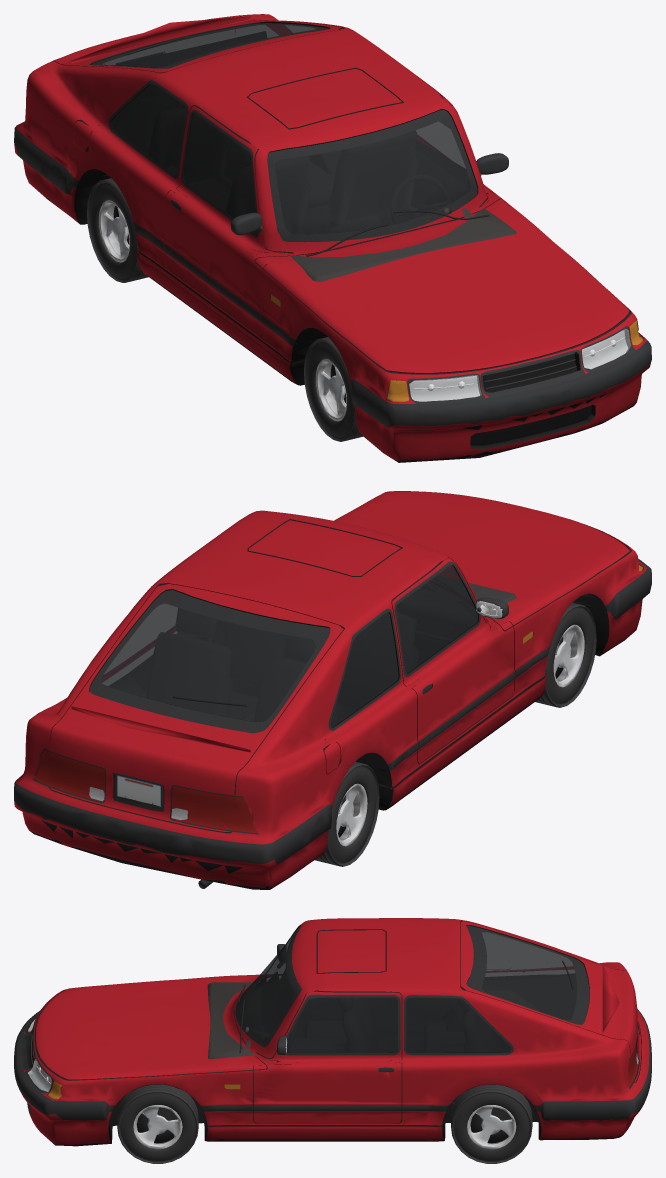
Rendered from car_saab900.glb.
3 views of the same model, one above another, from view 1: azimuth 30°, elevation 25°; view 2: azimuth 150°, elevation 25°; view 3: azimuth 270°, elevation 25° (orthographic). The views are drawn at different scales.
Visible parts, largest first — view 1: body, wheel_RR, wheel_FR; view 2: body, wheel_RR, wheel_FR; view 3: body, wheel_FL, wheel_RL.
Boxes of the visible parts, x1=… form: body: x1=14, y1=14, x2=651, y2=462; wheel_RR: x1=87, y1=178, x2=148, y2=282; wheel_FR: x1=304, y1=337, x2=362, y2=441; body: x1=14, y1=491, x2=651, y2=889; wheel_RR: x1=315, y1=761, x2=379, y2=866; wheel_FR: x1=535, y1=602, x2=596, y2=707; body: x1=14, y1=918, x2=651, y2=1146; wheel_FL: x1=117, y1=1084, x2=198, y2=1163; wheel_RL: x1=451, y1=1084, x2=532, y2=1163.
Size of the model in its own units: 1.84 by 1.41 by 4.81.
Materials: 12 (1 with a texture image).
